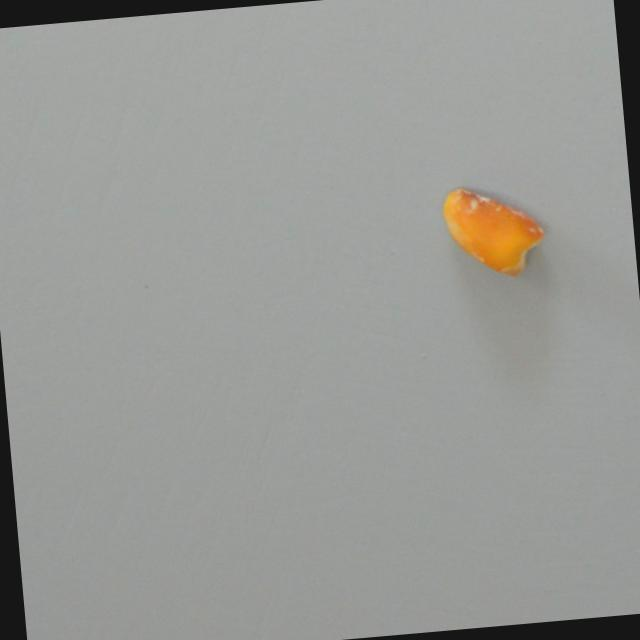dañado: (434, 177, 552, 286)
